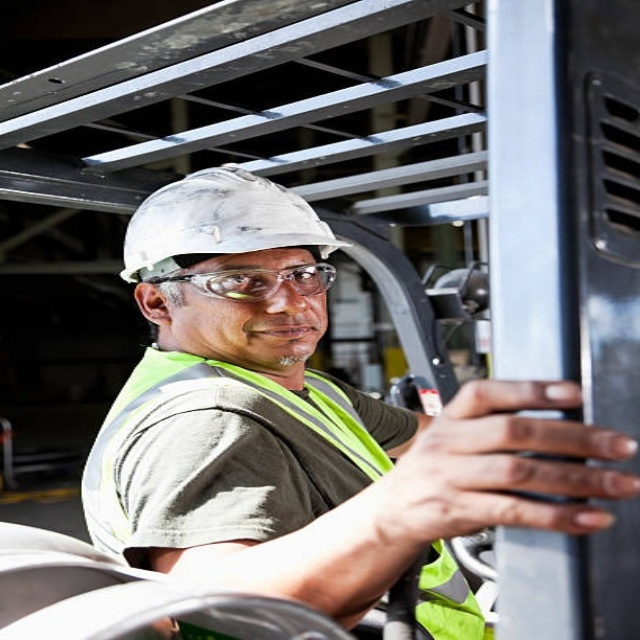Gafas: (150, 263, 340, 300)
Sin_guantes: (389, 375, 640, 548)
Sin_mascara: (238, 318, 323, 357)
